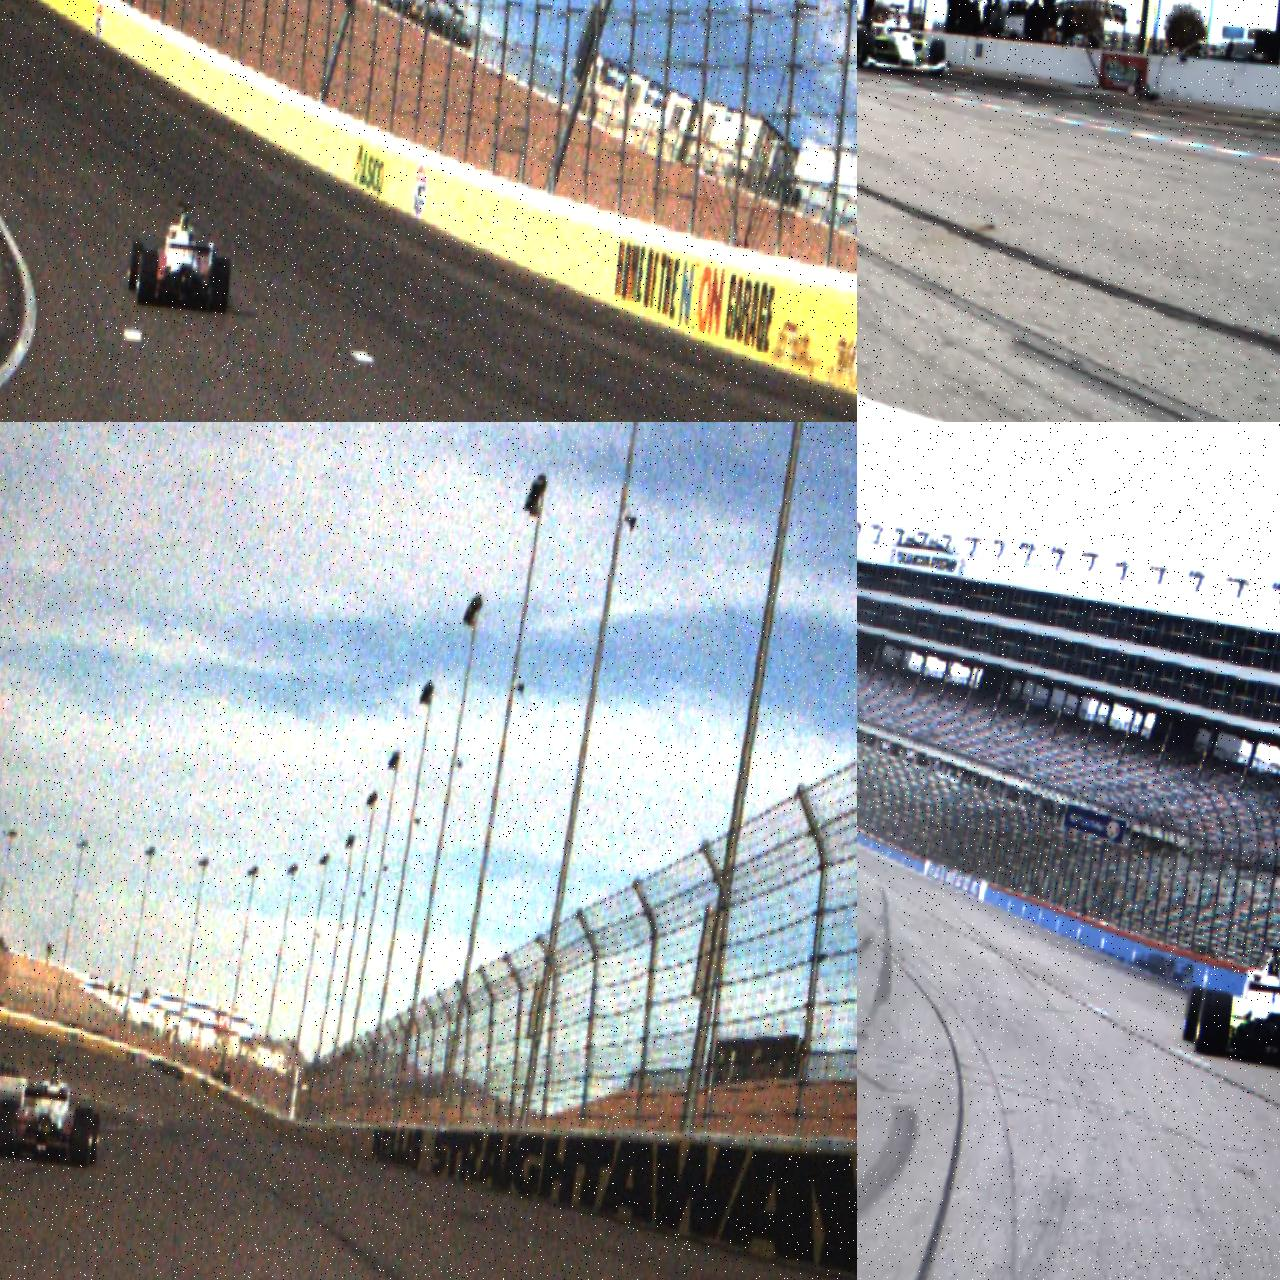AV: (1178, 934, 1280, 1079), (124, 198, 238, 314), (0, 1052, 108, 1170), (857, 1, 950, 76)
Wheel: (1194, 990, 1233, 1058), (1182, 985, 1211, 1044), (69, 1107, 95, 1168), (136, 249, 160, 306), (209, 255, 232, 314), (0, 1100, 20, 1159), (84, 1113, 102, 1164), (128, 239, 144, 291), (926, 39, 946, 78), (858, 32, 876, 68)
